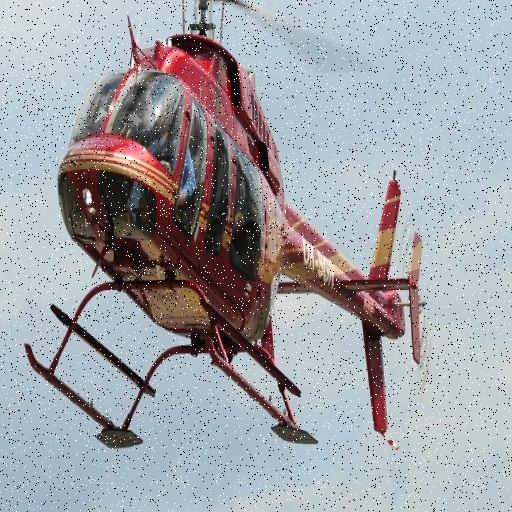helicopter: (1, 1, 458, 455)
